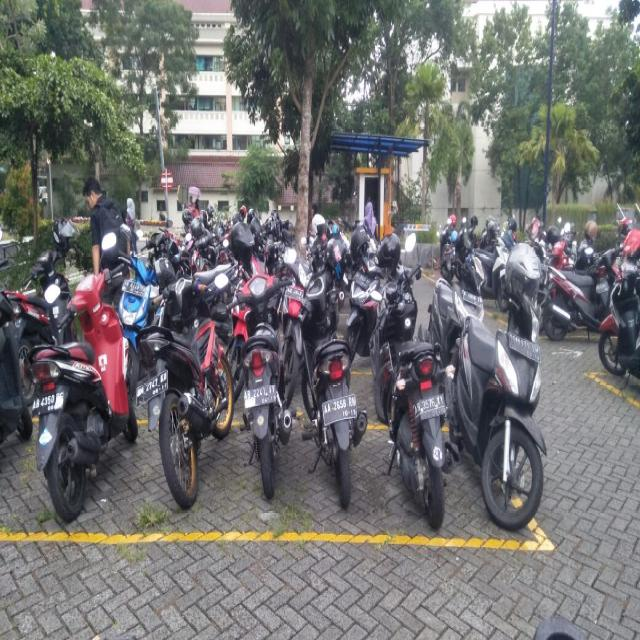plate: (135, 368, 168, 409), (320, 394, 358, 428), (413, 393, 446, 423), (30, 388, 64, 416), (508, 334, 541, 361), (243, 382, 276, 406), (122, 280, 146, 292)
